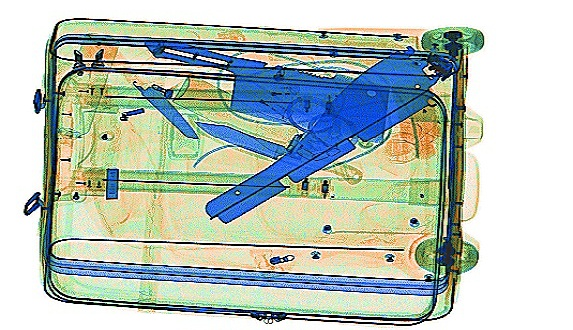handcuffs: (283, 93, 359, 163)
knife: (139, 36, 390, 144), (187, 112, 361, 185), (84, 30, 198, 140)
lighter: (242, 88, 293, 117), (264, 78, 300, 96)
pressure: (169, 72, 305, 160), (51, 30, 119, 146)
